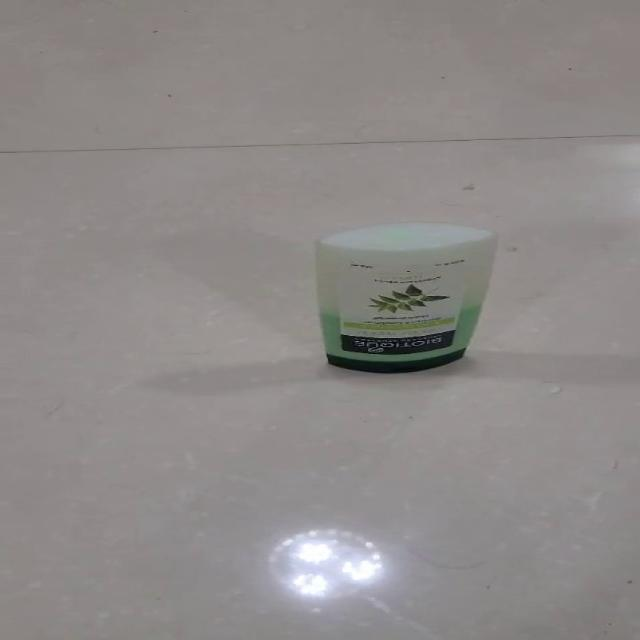plastic: (312, 220, 498, 373)
